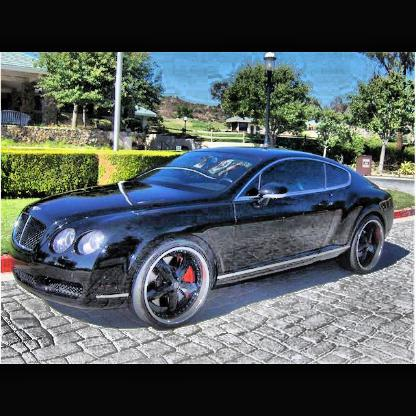Bentley Continental GT Coupe 2007: (8, 147, 397, 334)
